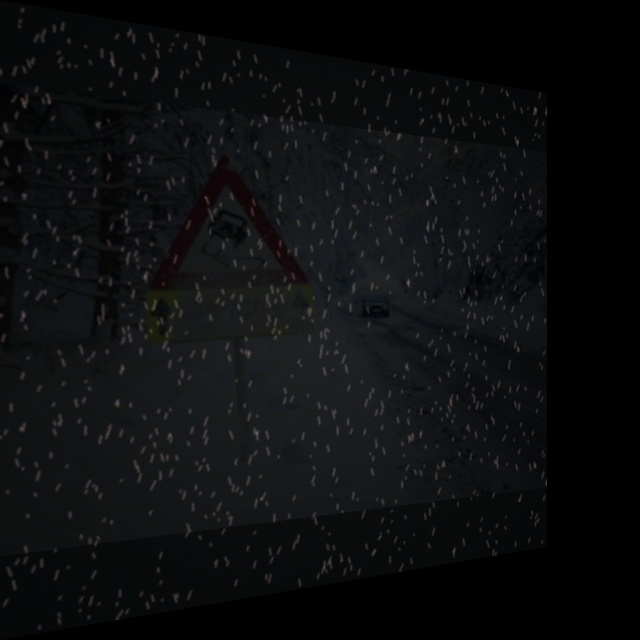Slippery_Road: (151, 141, 300, 303)
